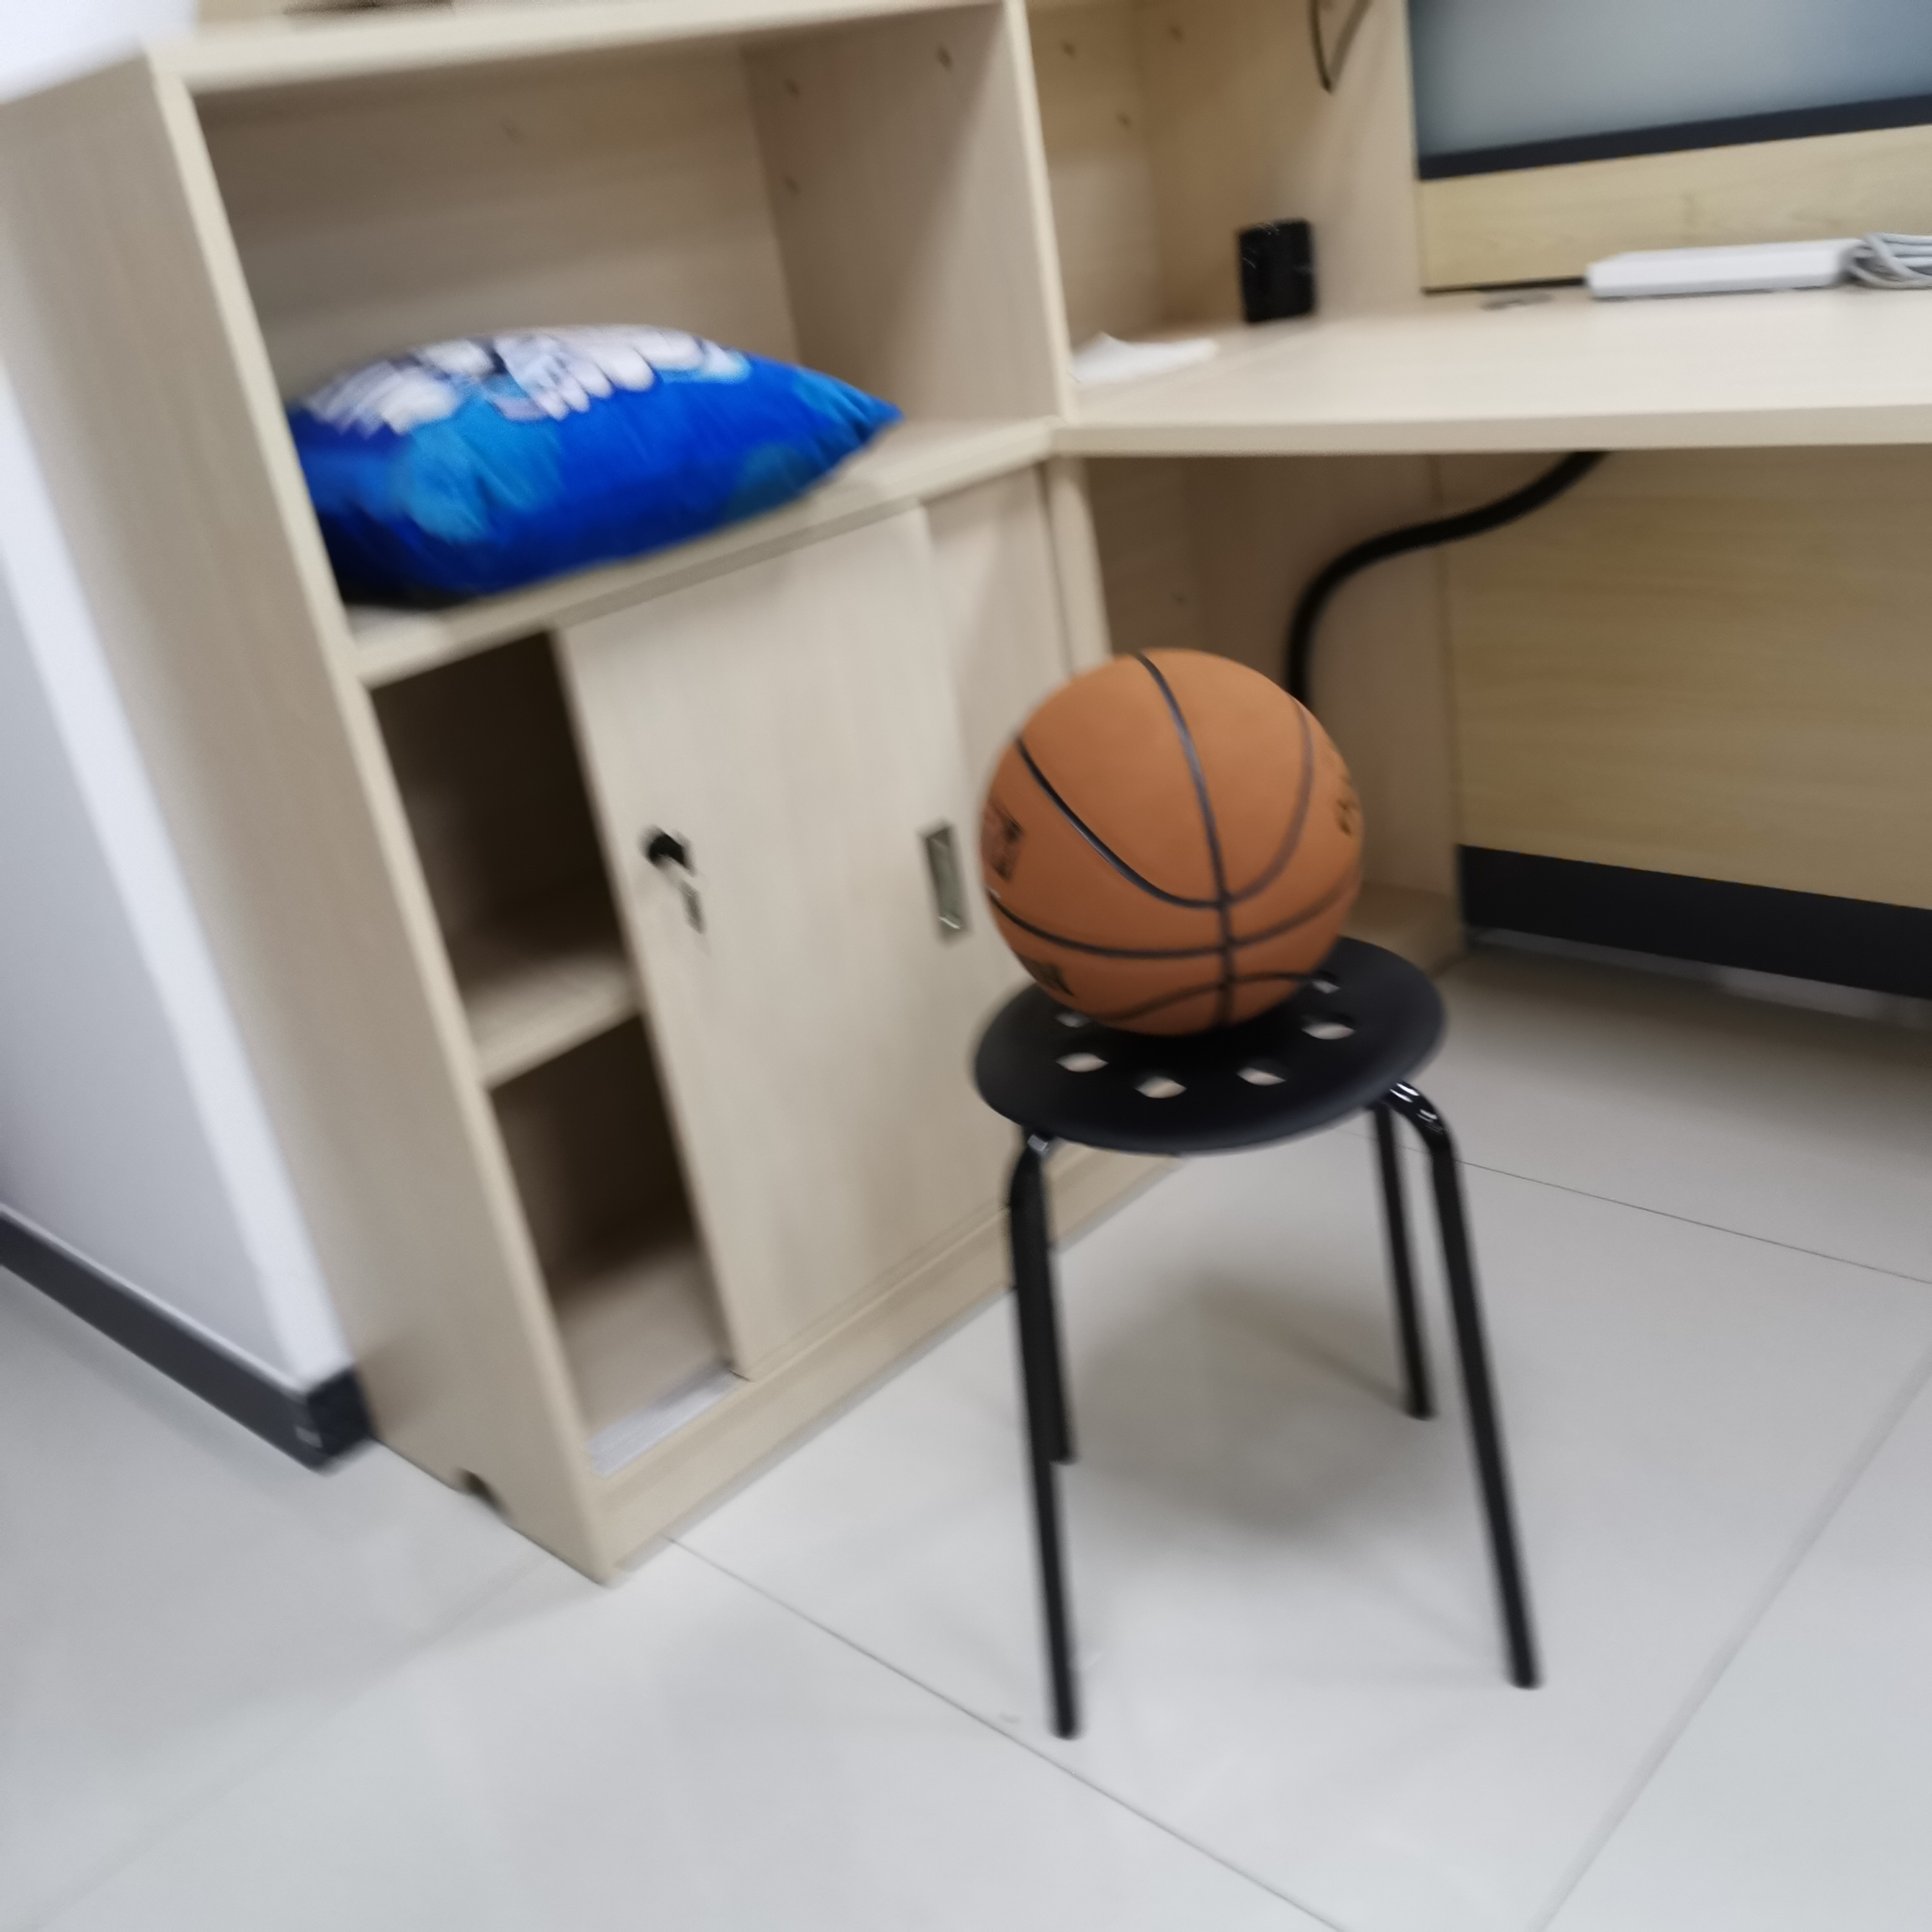basketball: (978, 649, 1366, 1030)
